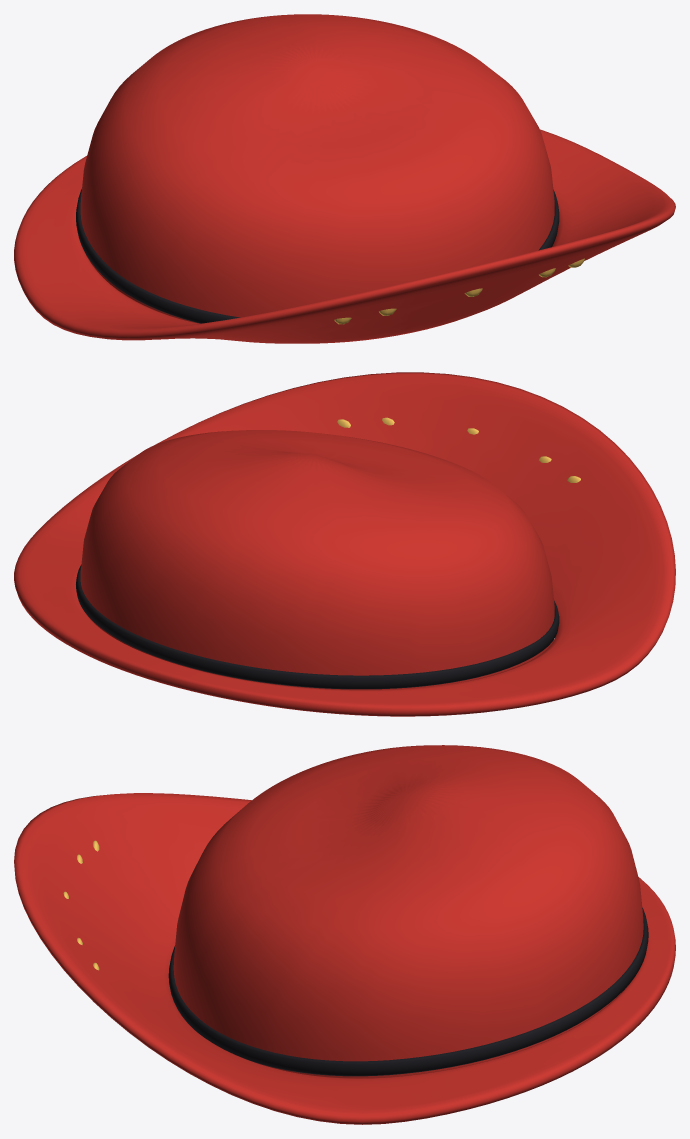
The model's file is hw_couro.glb.
3 renders of one model, top to bottom at view 1: azimuth 30°, elevation 25°; view 2: azimuth 150°, elevation 25°; view 3: azimuth 270°, elevation 25°, orthographic. The views are drawn at different scales.
Visible parts, largest first — view 1: hw_couro, hw_couro_brim, hw_couro_band; view 2: hw_couro, hw_couro_brim, hw_couro_band; view 3: hw_couro, hw_couro_brim, hw_couro_band.
Part boxes in pixels (x1,y1,x2,y2): hw_couro: [80, 14, 554, 323]; hw_couro_brim: [14, 129, 675, 343]; hw_couro_band: [76, 189, 559, 323]; hw_couro: [80, 430, 554, 690]; hw_couro_brim: [14, 372, 675, 716]; hw_couro_band: [76, 565, 559, 689]; hw_couro: [173, 745, 643, 1078]; hw_couro_brim: [14, 793, 675, 1124]; hw_couro_band: [168, 907, 648, 1076].
Size of the model in its own units: 1.13 by 0.3447 by 1.03.
